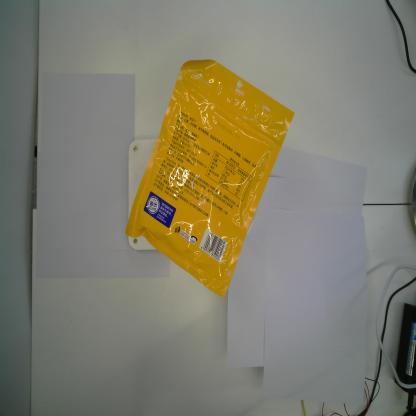Dried Fruit: (124, 58, 295, 299)
